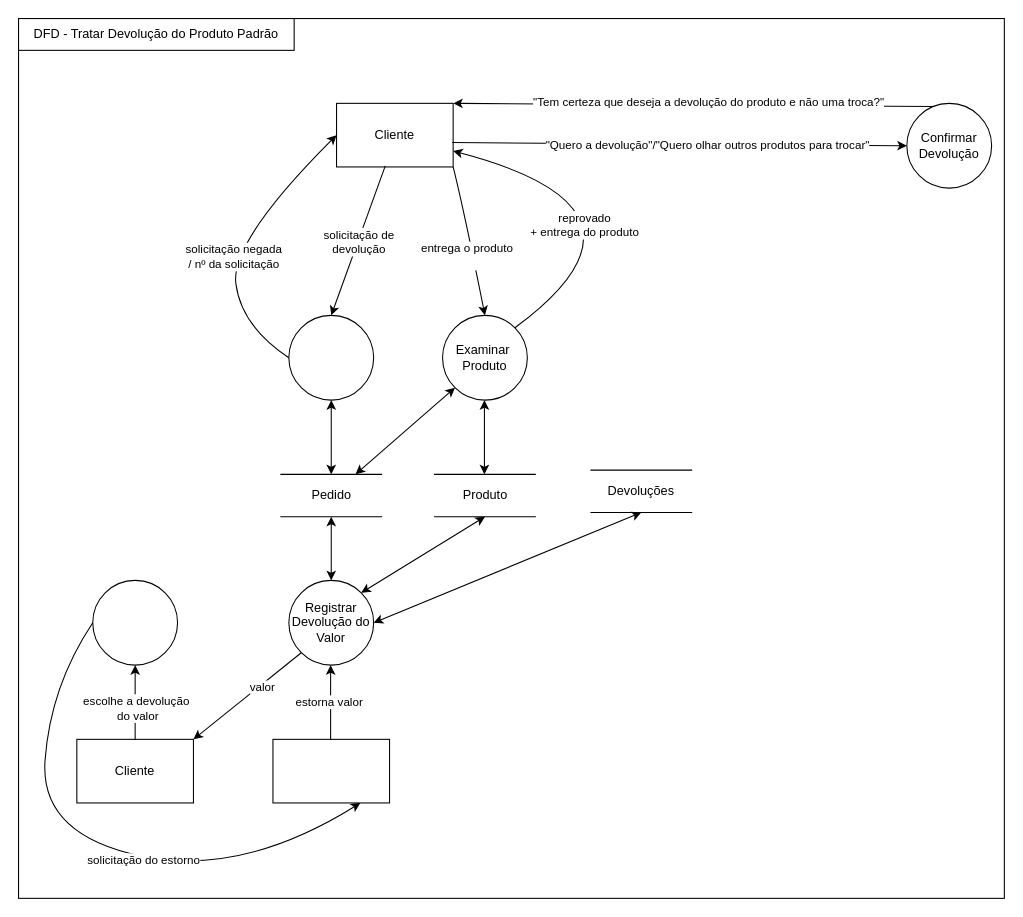
Some shapes in this 1023 by 917 pixel diagram are drawn without their labels. The centre of each missing label's shape, as x and y in pixels:
Caixa: point (331, 770)
Encaminhar Solicitação de Devolução: point (135, 622)
Verificar Solicitação: point (331, 357)
